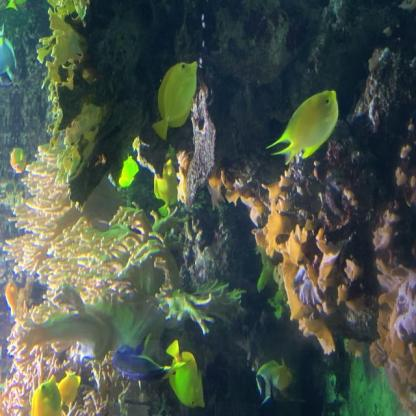fish: (265, 90, 339, 165), (151, 60, 198, 141), (162, 337, 208, 411), (108, 341, 176, 386), (252, 355, 295, 400), (149, 156, 180, 214), (29, 374, 65, 416), (0, 21, 21, 88), (56, 366, 84, 410), (4, 276, 22, 317), (118, 154, 139, 188), (8, 146, 28, 174), (7, 0, 28, 13)
